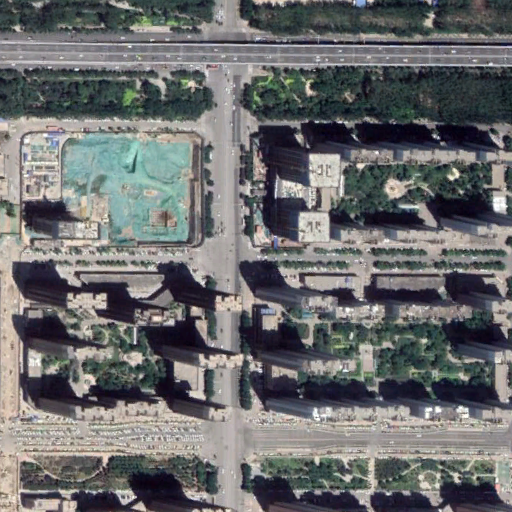cw: (58, 134, 199, 246)
